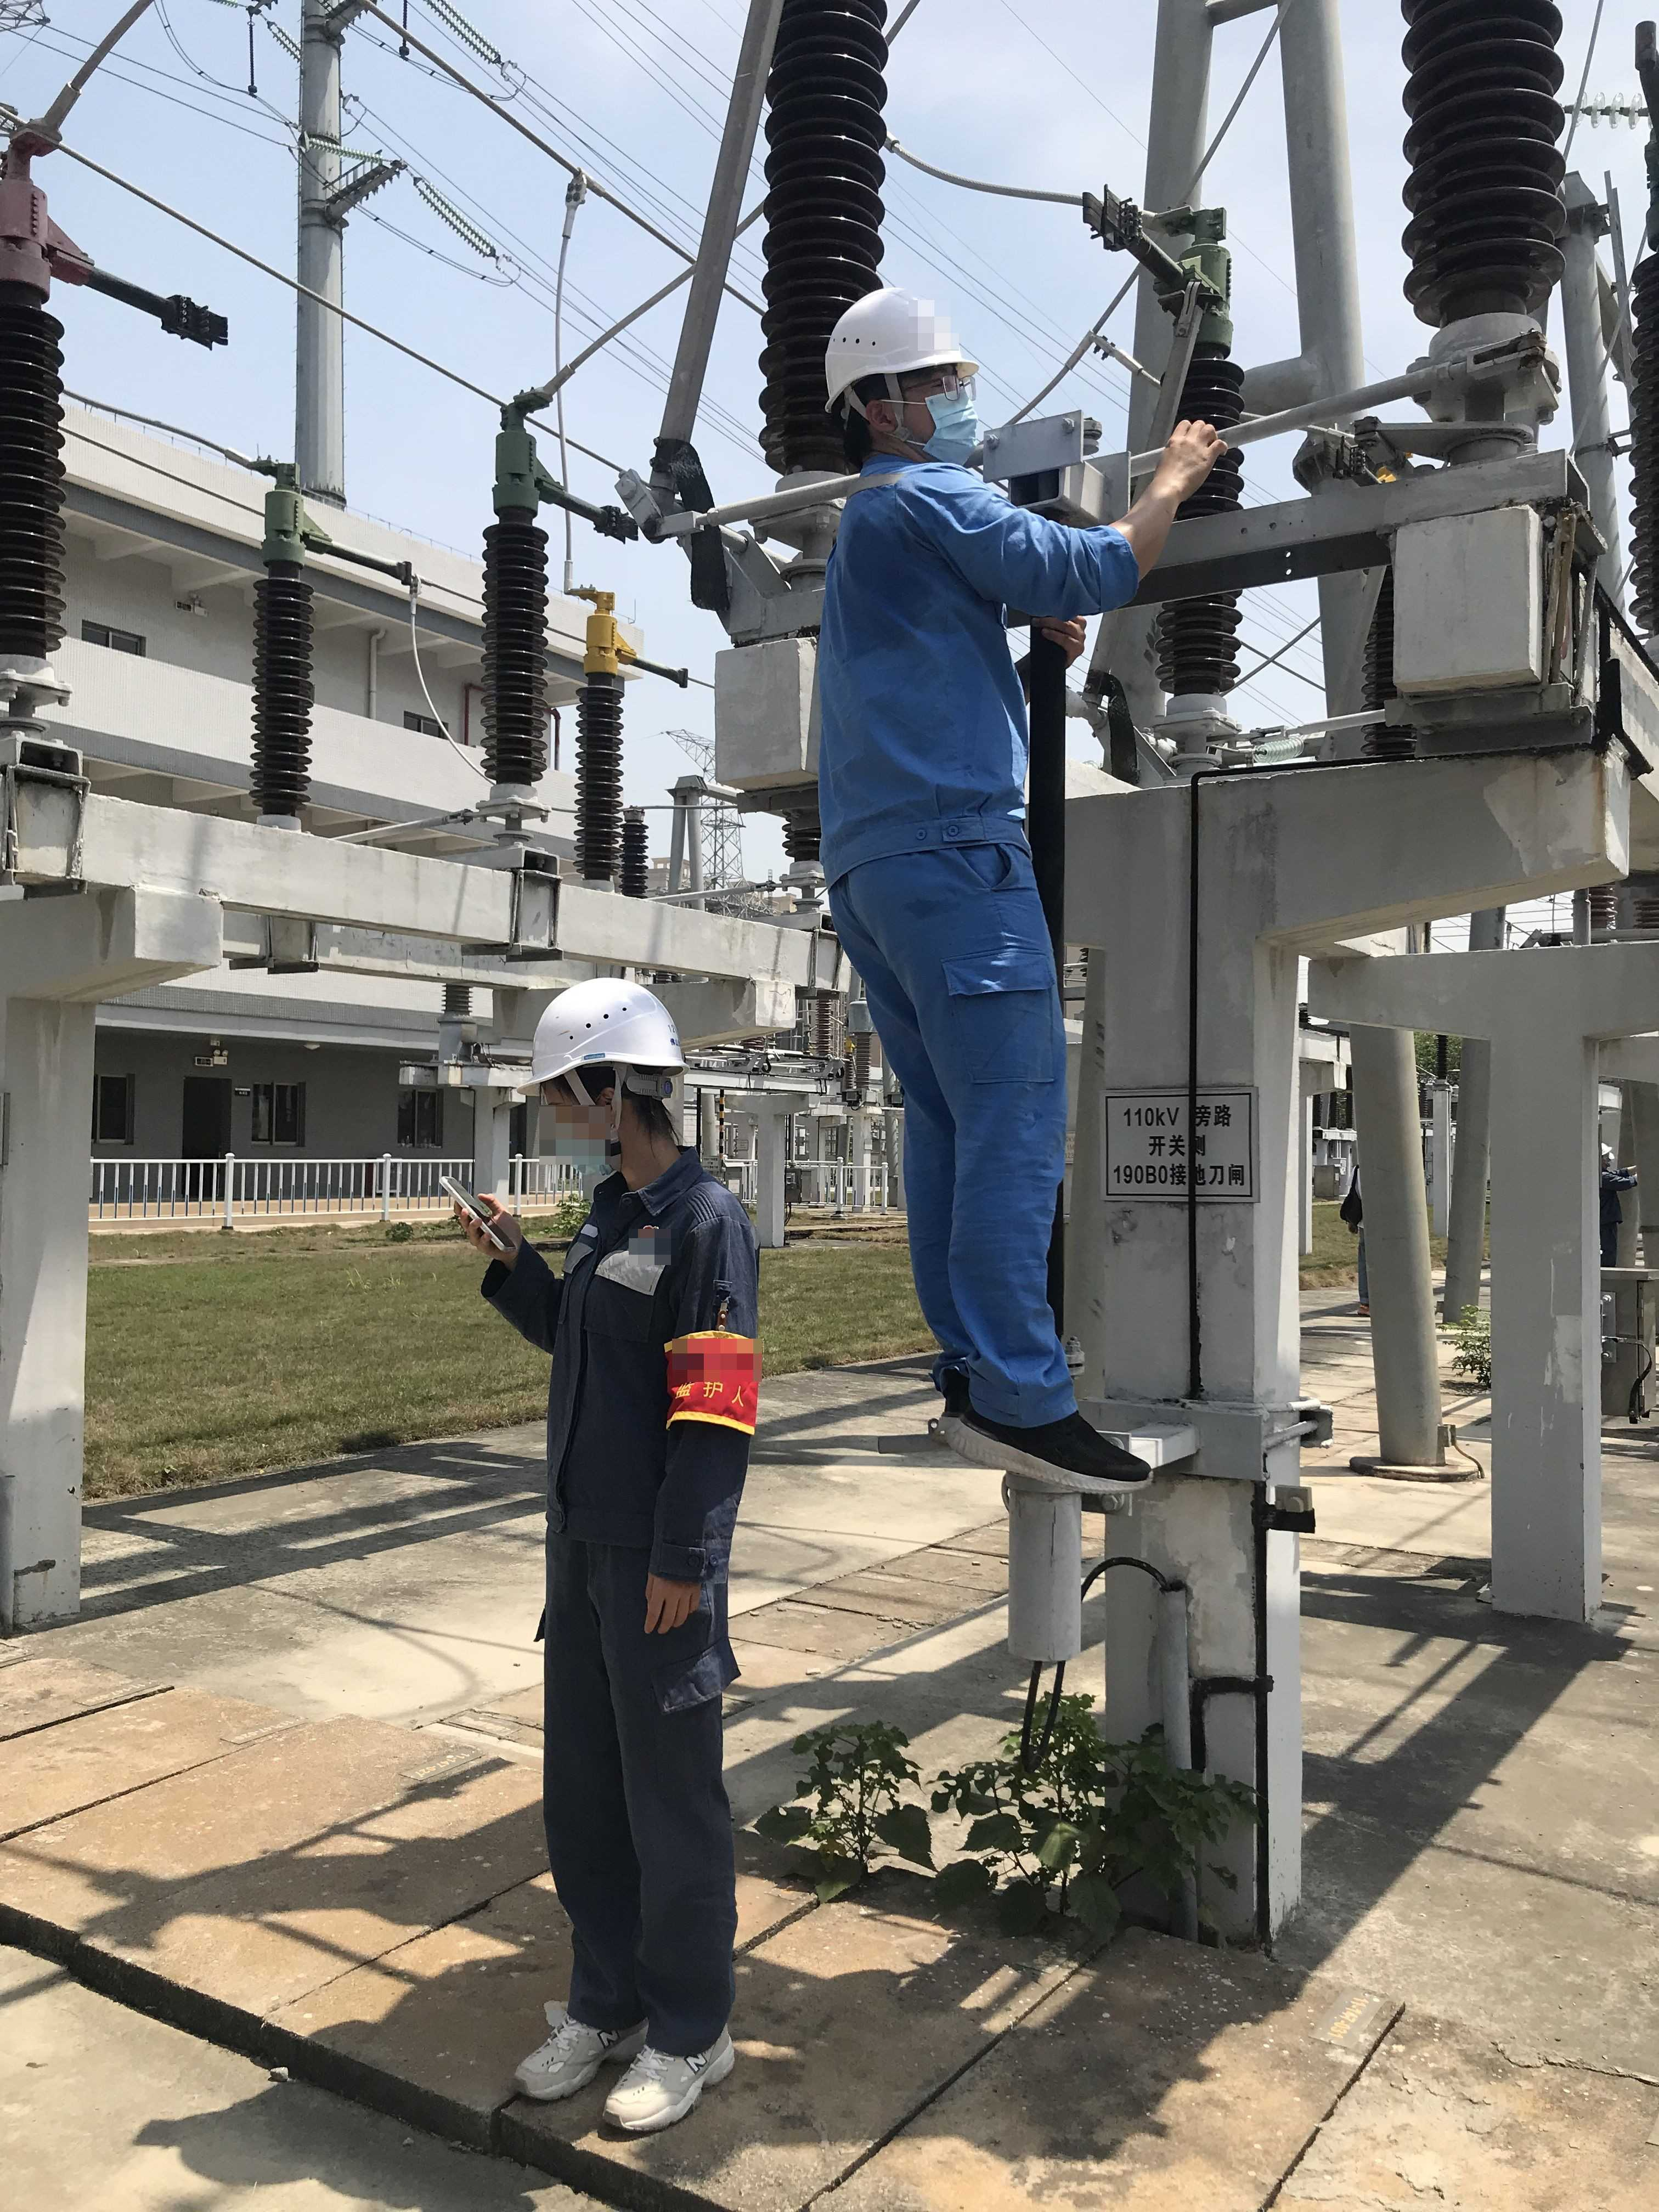downsuit: (826, 873, 1077, 1400), (532, 1588, 749, 2043)
upsuit: (789, 444, 1136, 862), (504, 1174, 765, 1555)
wrongtop: (1079, 427, 1225, 603)
